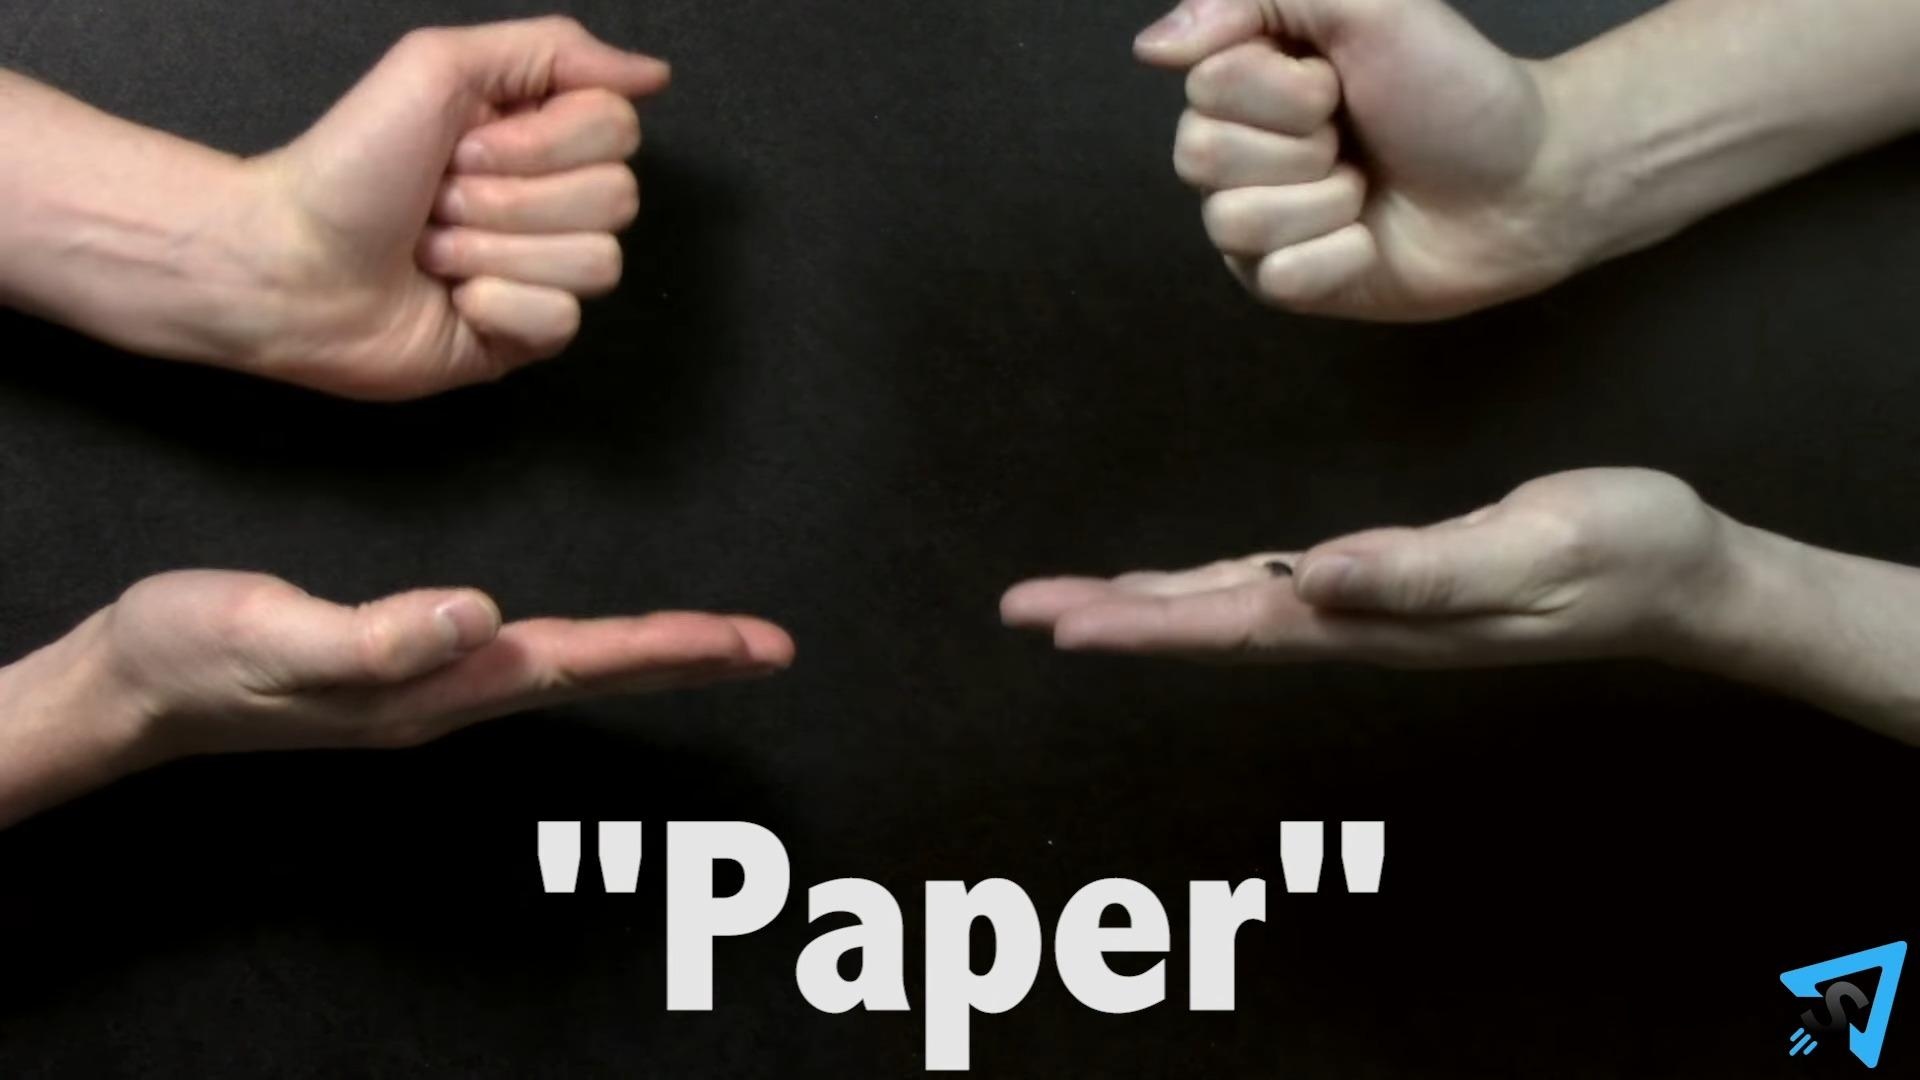Rock: (255, 8, 671, 389), (1135, 0, 1573, 327)
